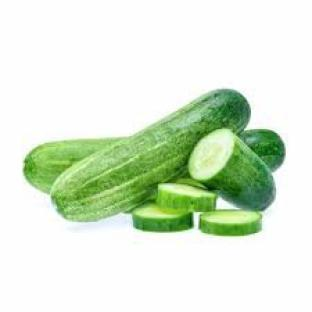Cucumber: (52, 89, 249, 221), (189, 129, 275, 209), (24, 138, 122, 192), (240, 129, 285, 171), (132, 203, 192, 231), (157, 184, 216, 212), (200, 210, 262, 235), (175, 178, 206, 189)
